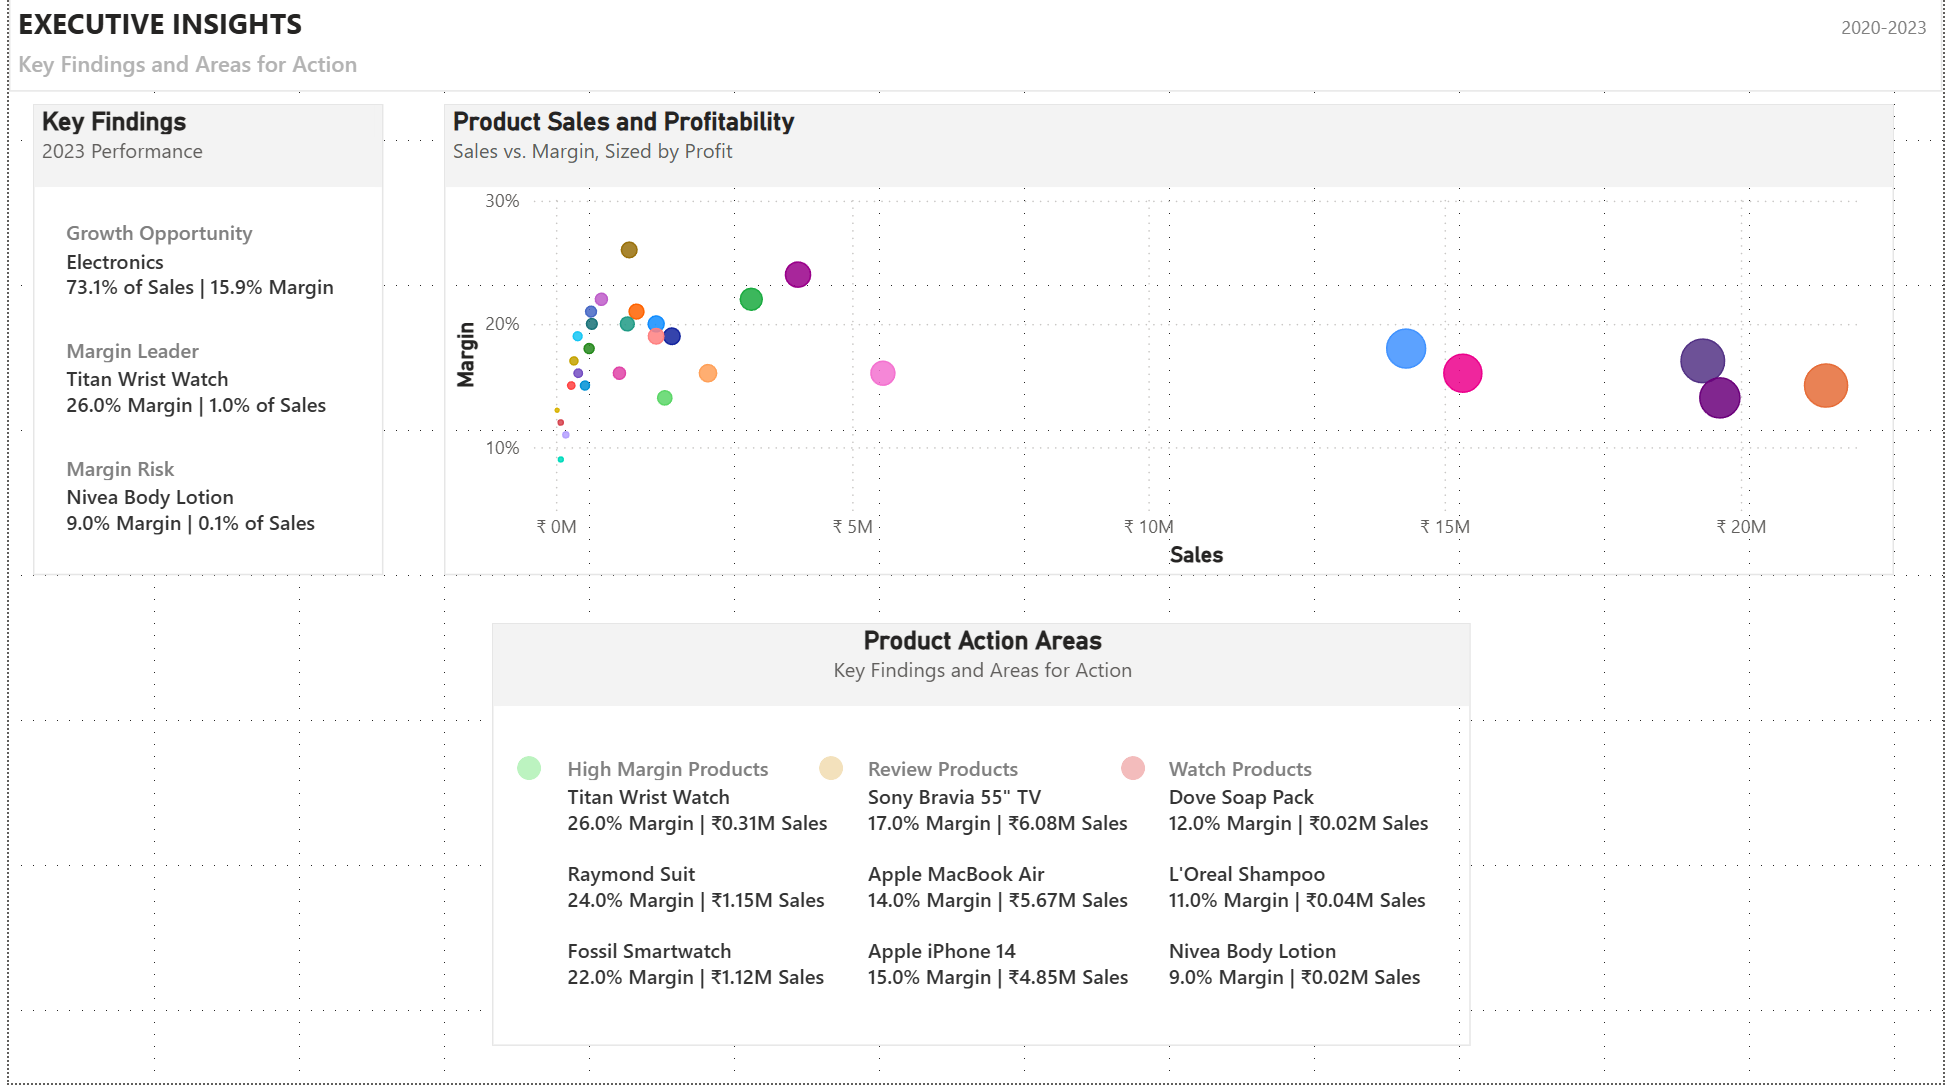

What the dashboard file says about the page in this screenshot:
{"tool":"powerbi","page":{"name":"Executive Insights","canvas":[1280,720],"ordinal":3},"visuals":[{"type":"textbox","box":[0,0,1280,64],"z":0},{"type":"cardVisual","title":"Key Findings","fields":{"Data":["Measures Table.Growth Opportunity","Measures Table.Margin Leader","Measures Table.Margin Risk"]},"box":[16,72,232,312],"z":1000},{"type":"scatterChart","title":"Product Sales and Profitability","fields":{"X":["Sum(Fact Table.Net Sales)"],"Y":["Measures Table.Profit Margin"],"Series":["Dim Product.Product Name"],"Size":["Measures Table.Total Profit"]},"box":[288,72,960,312],"z":2000},{"type":"cardVisual","title":"Product Action Areas","fields":{"Data":["Measures Table.Scale Products","Measures Table.Review Products","Measures Table.Watch Products"]},"box":[320,416,648,280],"z":3000},{"type":"shape","box":[336,504,16,16],"z":4000},{"type":"shape","box":[536,504,16,16],"z":5000},{"type":"shape","box":[736,504,16,16],"z":6000}]}

Visuals, with their boxes in screenshot pixels (x1, y1, x2, y2), scaled from the page's 1280x720 canvas onto the 1945x1085 screenshot:
textbox: crop(0, 0, 1944, 96)
"Key Findings" cardVisual: crop(24, 108, 377, 579)
"Product Sales and Profitability" scatterChart: crop(438, 108, 1896, 579)
"Product Action Areas" cardVisual: crop(486, 627, 1471, 1049)
shape: crop(511, 760, 535, 784)
shape: crop(814, 760, 839, 784)
shape: crop(1118, 760, 1143, 784)
